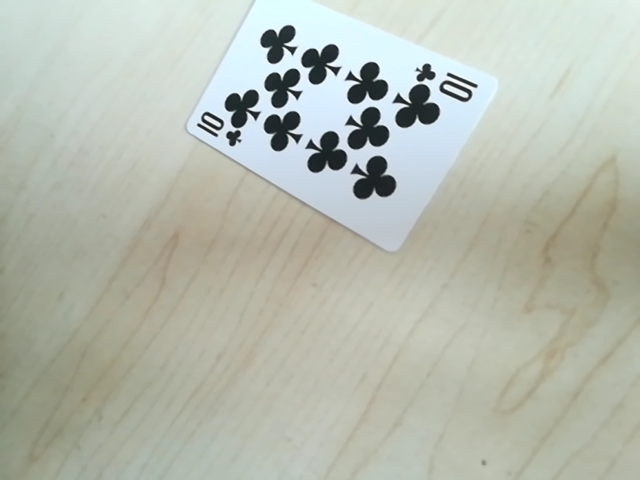mh 10: (414, 59, 487, 96), (191, 109, 250, 149)
